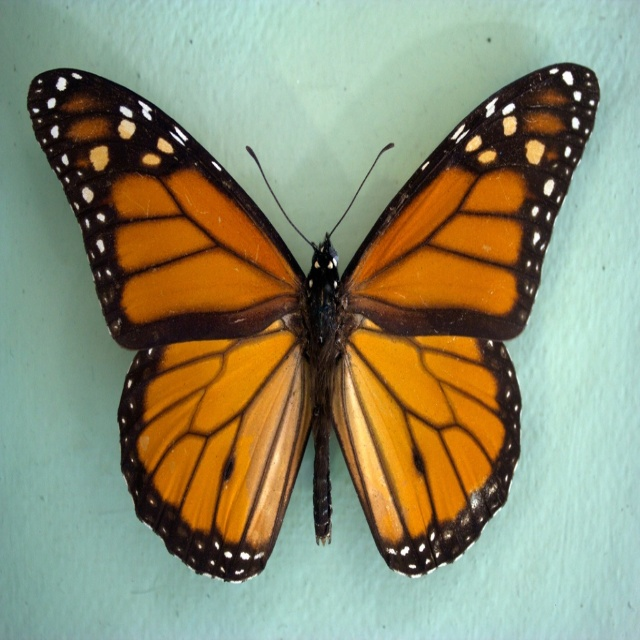Butterfly: (26, 67, 601, 585)
